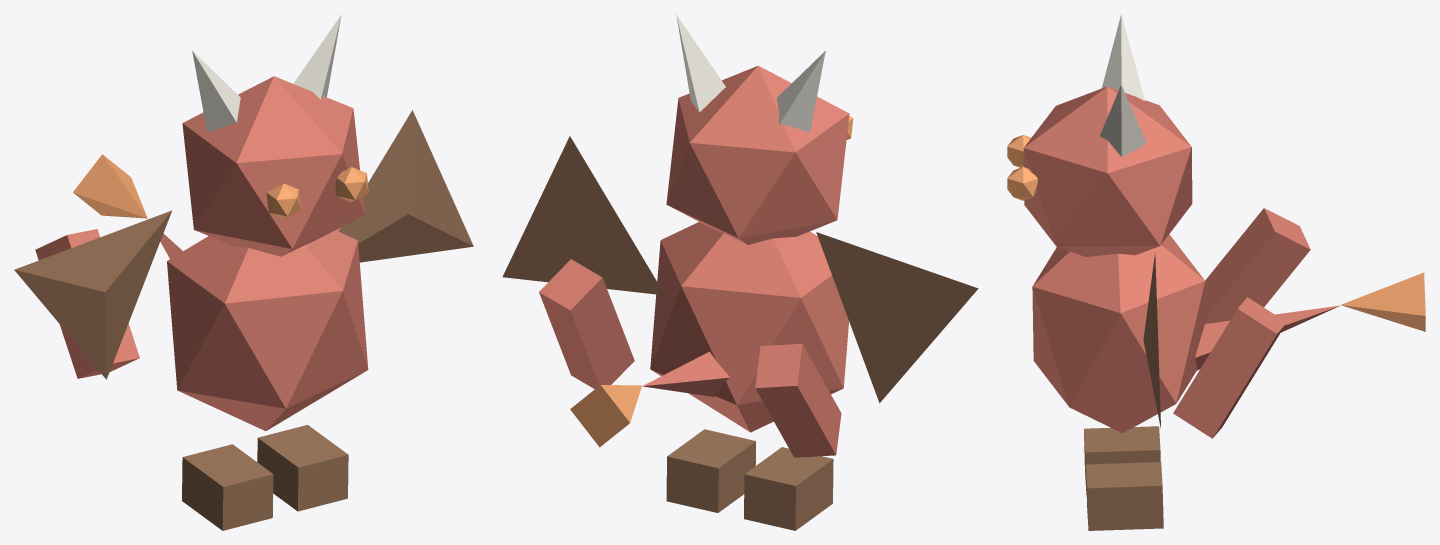
Rendered from npcpose_imp_walk_01.glb.
3 views of the same model, side by side, from view 1: azimuth 30°, elevation 25°; view 2: azimuth 150°, elevation 25°; view 3: azimuth 270°, elevation 25° (orthographic). The views are drawn at different scales.
Visible parts, largest first — view 1: npcpose; view 2: npcpose; view 3: npcpose.
Boxes of the visible parts, x1,y1,x2,y2 form: npcpose: (14, 14, 473, 530); npcpose: (502, 15, 978, 530); npcpose: (1007, 14, 1425, 530).
Size of the model in its own units: 1.1 by 1.06 by 0.8894.
